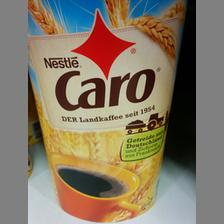Kaffee: (26, 0, 186, 224)
